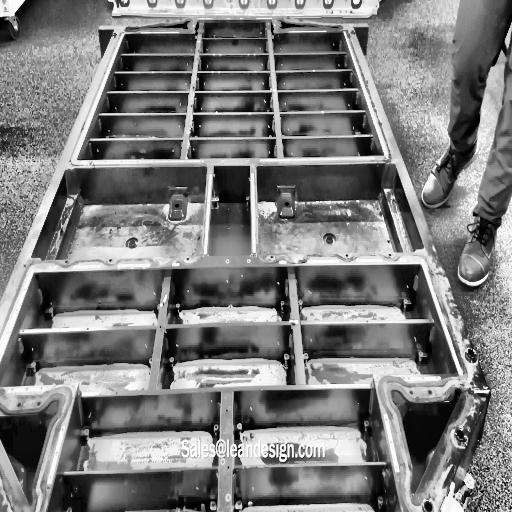b_casing: (0, 3, 497, 512)
